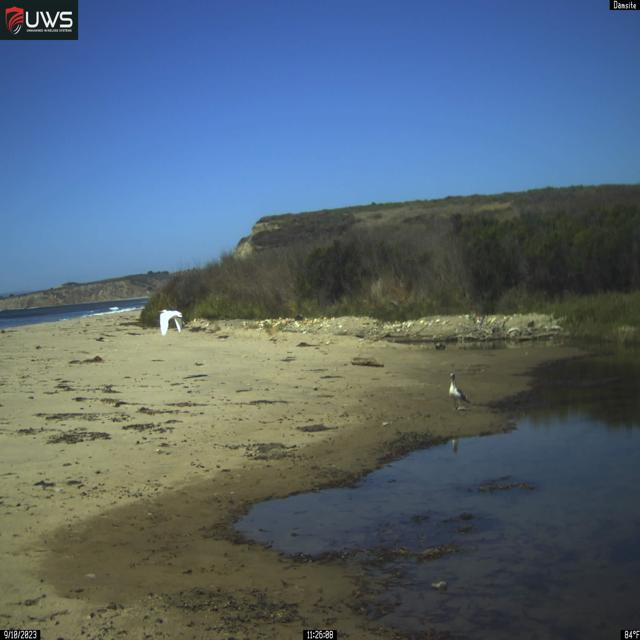bird: (449, 372, 471, 411)
